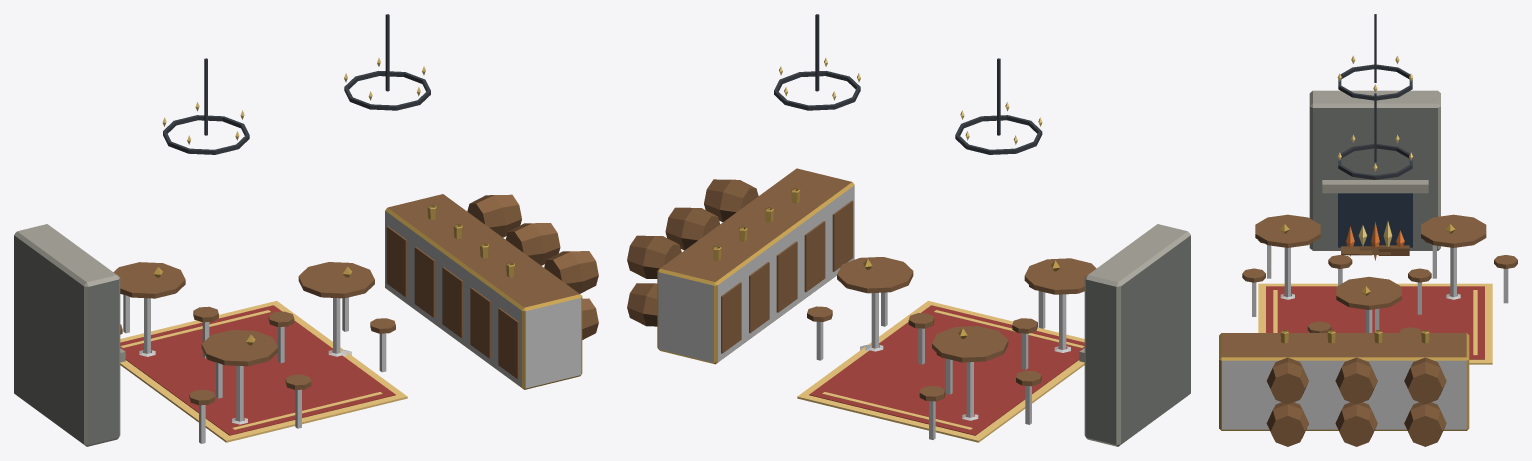
Rendered from TavernInterior.obj.
3 views of the same model, side by side, from view 1: azimuth 30°, elevation 25°; view 2: azimuth 150°, elevation 25°; view 3: azimuth 270°, elevation 25° (orthographic). The views are drawn at different scales.
Bounding box in the file's own units: 16.25 × 10.46 × 9.56.
